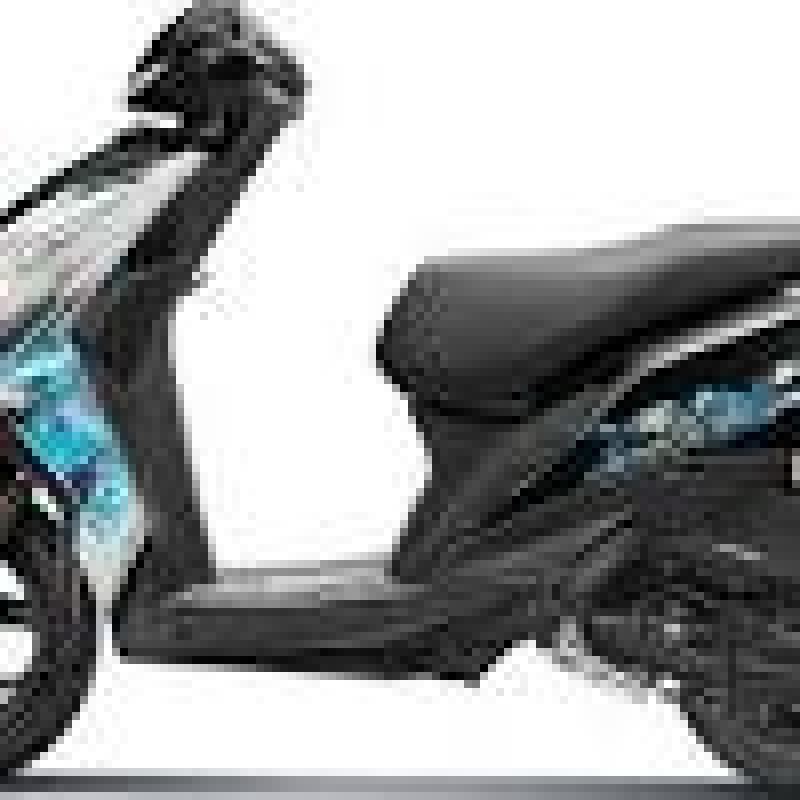bike: (10, 12, 800, 766)
